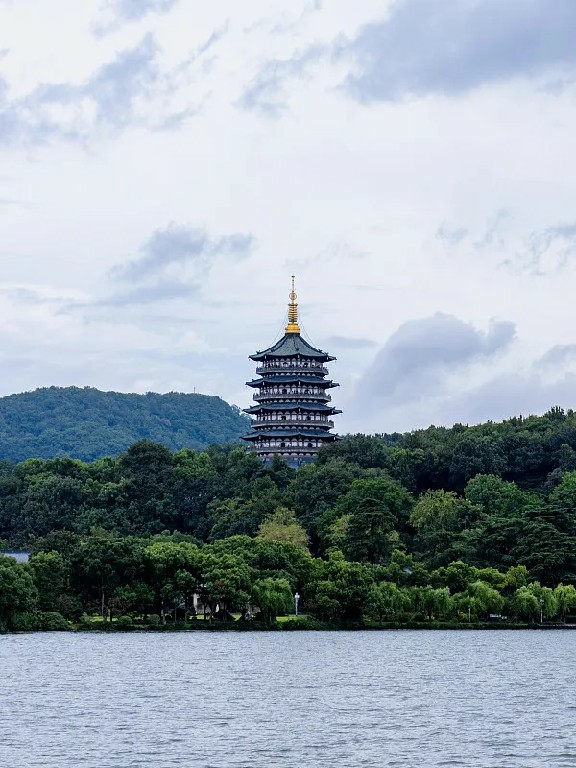Leifeng: (245, 272, 345, 475)
